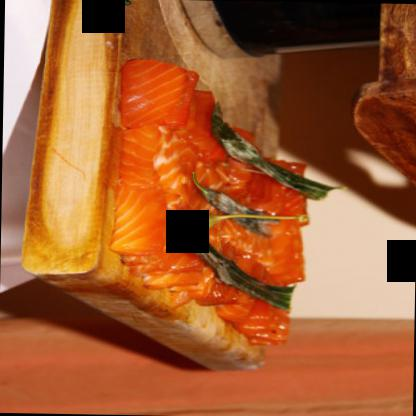salmon: (106, 127, 172, 258), (124, 52, 190, 131)
